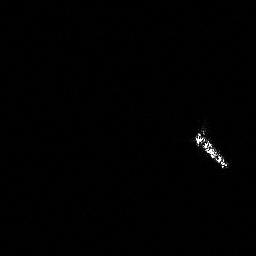ship: (191, 125, 233, 173)
